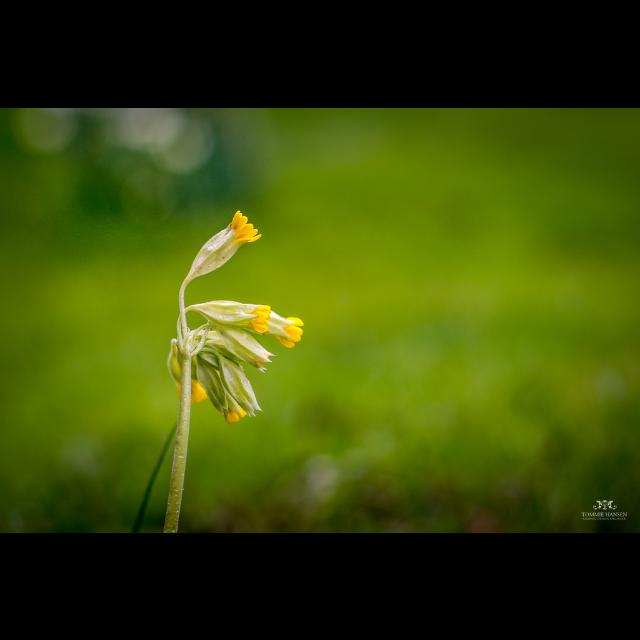Flower: (184, 208, 266, 284), (187, 305, 269, 333), (265, 312, 301, 350)
